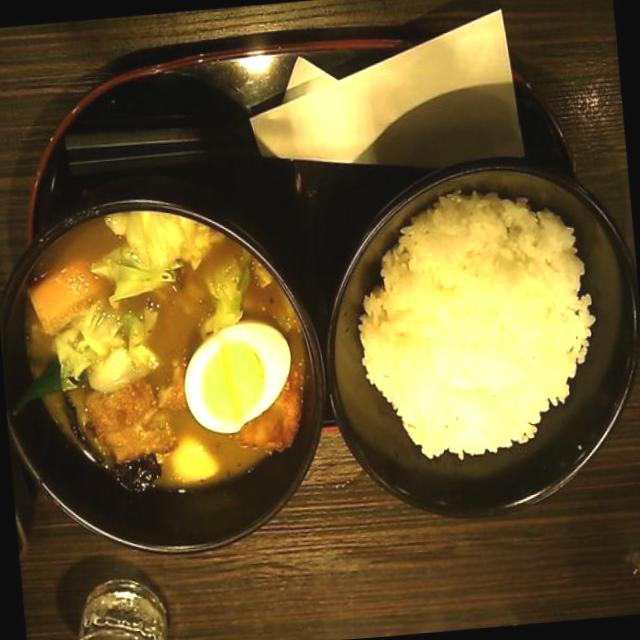Rice: (356, 185, 614, 477)
